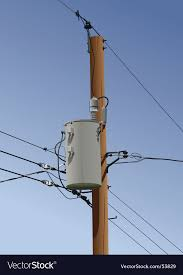utility_pole: (30, 18, 144, 222)
